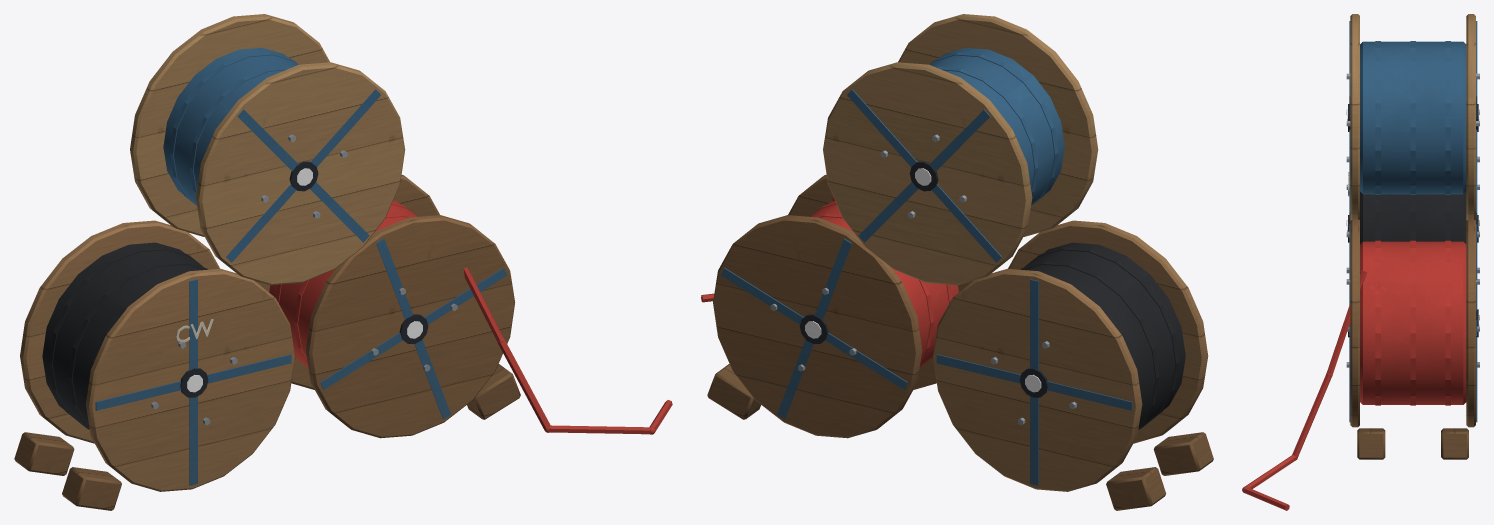
Rendered from cable_drum_stack.glb.
The picture shows the model from 3 angles, left to right: view 1: azimuth 30°, elevation 25°; view 2: azimuth 150°, elevation 25°; view 3: azimuth 270°, elevation 25°; orthographic projection. The views are drawn at different scales.
Parts seen in each view (by area): view 1: cable_drum_stack; view 2: cable_drum_stack; view 3: cable_drum_stack.
Part boxes in pixels (<box>): cable_drum_stack: <box>14,14,672,510</box>; cable_drum_stack: <box>701,14,1213,510</box>; cable_drum_stack: <box>1242,14,1479,510</box>.
Bounding box in the file's own units: 4.04 × 2.79 × 1.7.
Materials: 12 (12 with a texture image).
